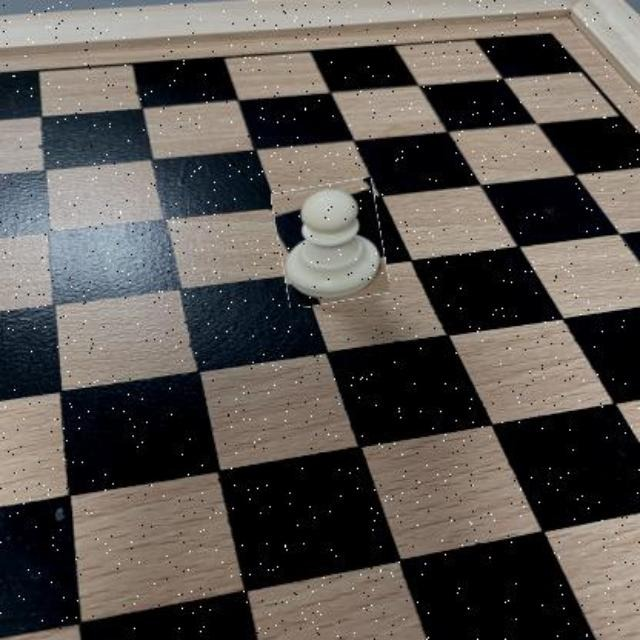white-pawn: (276, 181, 386, 305)
